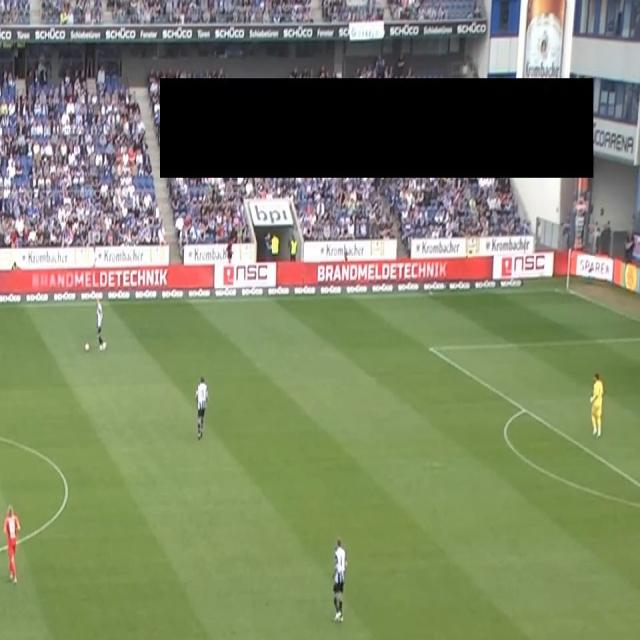ball: (84, 340, 90, 352)
